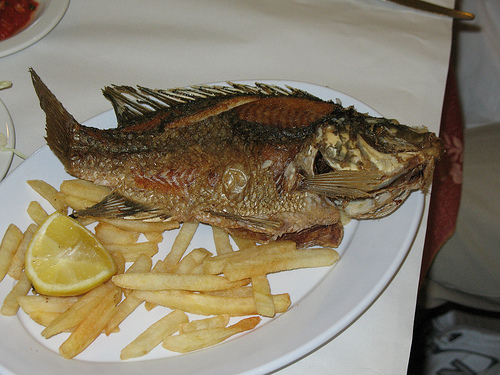fish: (27, 64, 441, 246)
